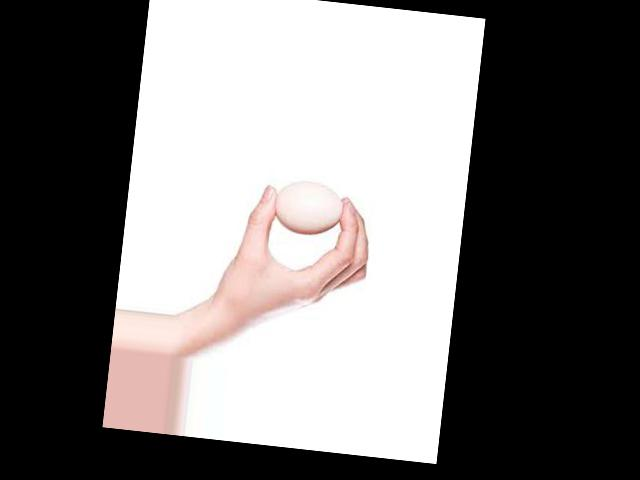egg: (271, 178, 345, 238)
